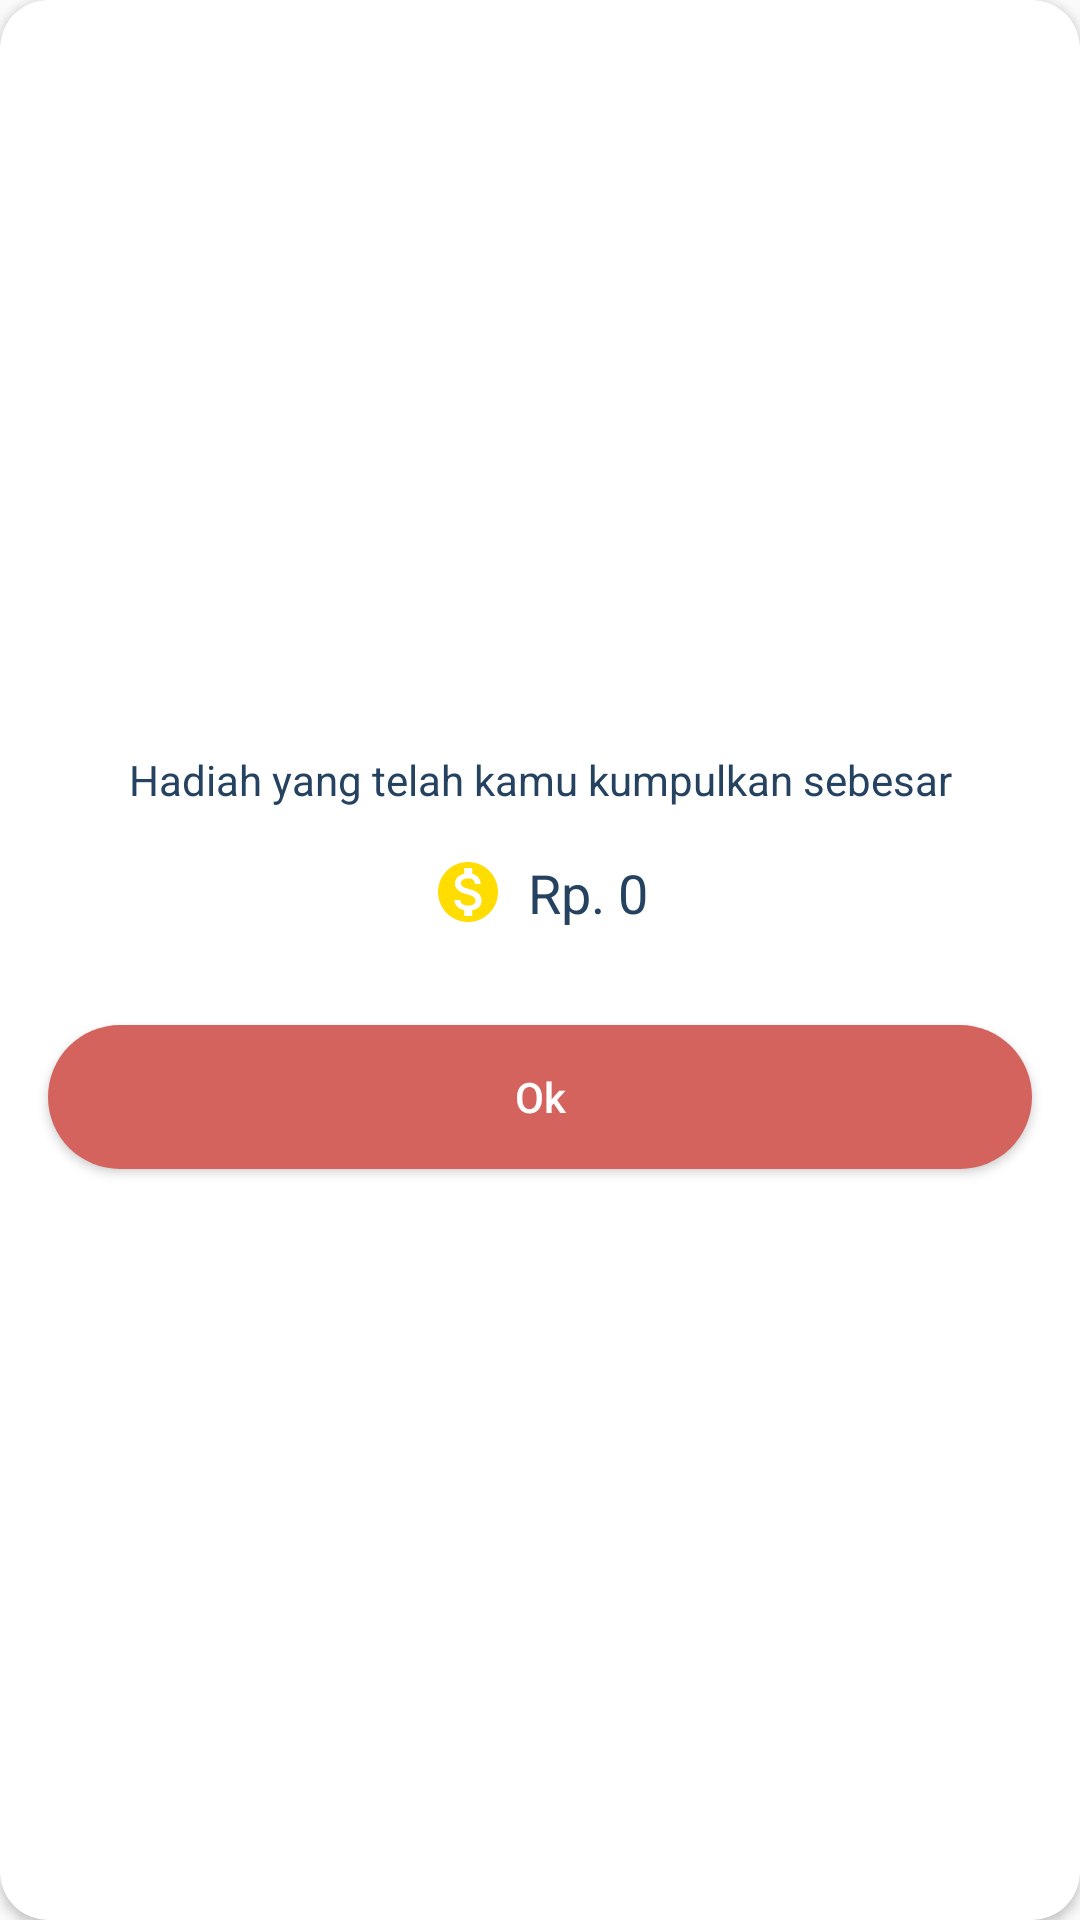

Where icons sit on this 1080px×1920px app screen, as (x1, y1, x2, y2):
monetization gold: (438, 862, 498, 922)
